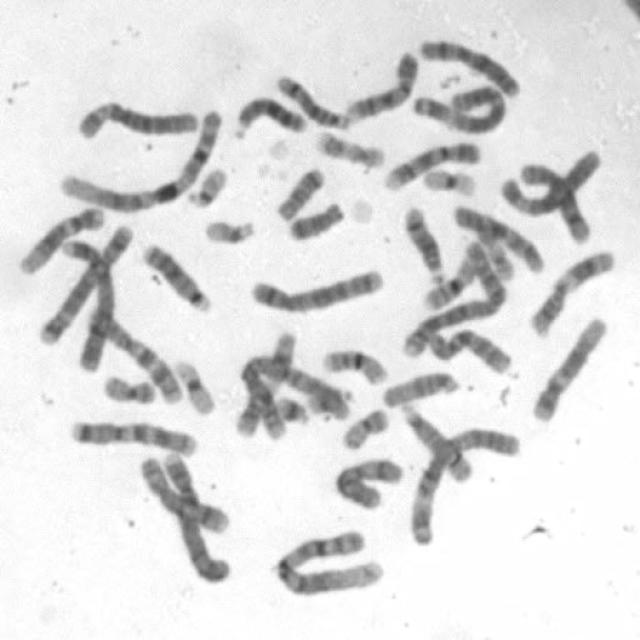A1: (58, 106, 227, 217), (273, 527, 387, 596)
A2: (399, 240, 510, 357), (240, 352, 350, 442)
A3: (406, 427, 520, 551), (411, 84, 505, 137)
B4: (158, 448, 232, 584), (58, 237, 118, 373)
B5: (35, 220, 135, 350), (248, 268, 384, 318)
C10: (454, 203, 546, 276), (426, 325, 512, 378)
C11: (528, 248, 616, 339), (230, 332, 298, 440)
C12: (531, 316, 607, 422), (14, 208, 108, 278)
C6: (499, 151, 604, 219), (74, 100, 201, 144)
C7: (91, 310, 183, 409), (68, 418, 201, 459)
C8: (133, 453, 234, 542), (516, 159, 596, 244)
C9: (344, 50, 421, 124), (382, 140, 484, 193)
D13: (140, 241, 214, 316), (229, 97, 309, 142)
D14: (276, 70, 352, 132), (401, 204, 447, 289)
D15: (398, 400, 475, 488), (380, 373, 464, 410)
E16: (423, 252, 479, 311), (322, 346, 392, 387)
E17: (316, 128, 388, 169), (473, 215, 516, 282)
E18: (275, 166, 327, 224), (286, 200, 346, 243)
F19: (176, 358, 219, 420), (420, 168, 478, 200)
F20: (343, 405, 393, 450), (101, 370, 158, 408)
G21: (307, 383, 355, 417), (272, 395, 312, 427)
G22: (182, 165, 228, 208), (204, 219, 258, 248)
X: (418, 36, 521, 101), (333, 457, 405, 511)
